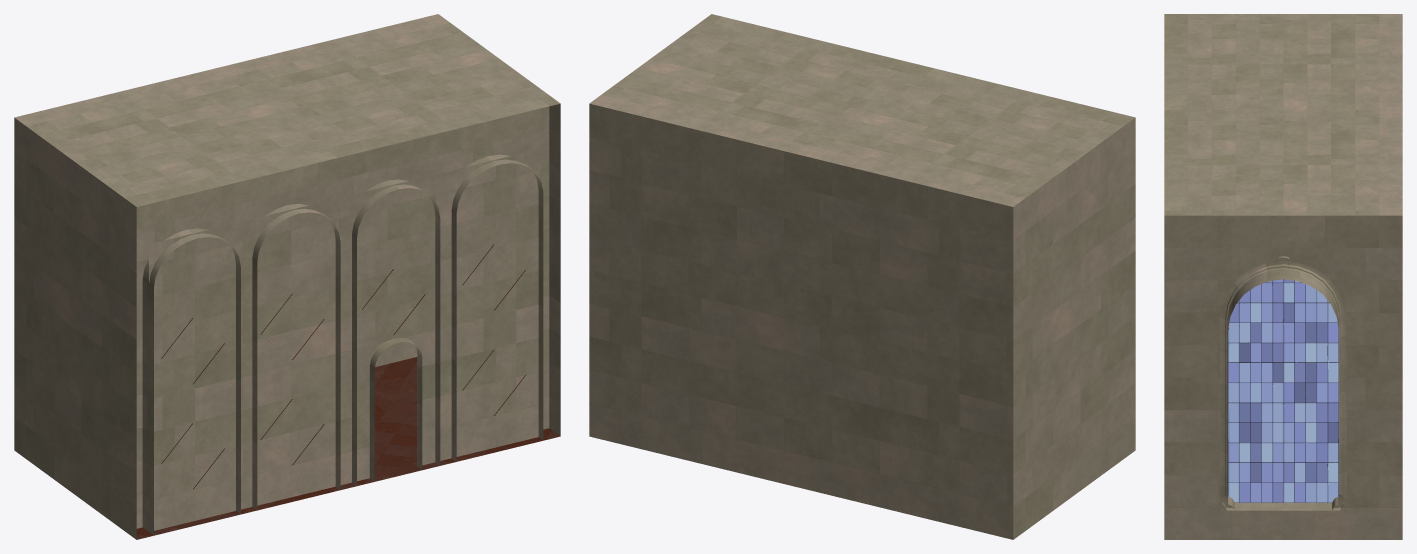
The model's file is envmaps_hall.gltf.
3 views of the same model, side by side, from view 1: azimuth 30°, elevation 25°; view 2: azimuth 150°, elevation 25°; view 3: azimuth 270°, elevation 25° (orthographic). The views are drawn at different scales.
Visible parts, largest first — view 1: envmaphall; view 2: envmaphall; view 3: envmaphall.
Part boxes in pixels (left/top/right/bottom): envmaphall: left=14, top=14, right=560, bottom=539; envmaphall: left=589, top=14, right=1135, bottom=539; envmaphall: left=1164, top=14, right=1402, bottom=539.
Bounding box in the file's own units: 8.38 × 6 × 4.
Materials: 3 (3 with a texture image).
